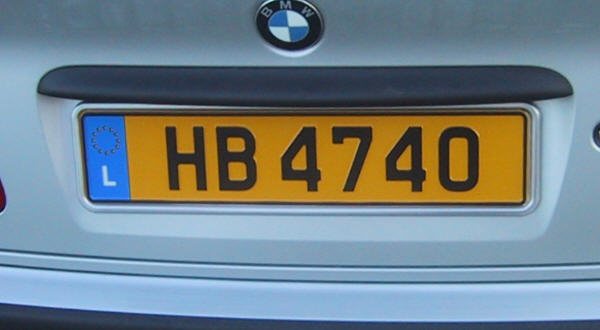license_plate: (75, 103, 534, 212)
